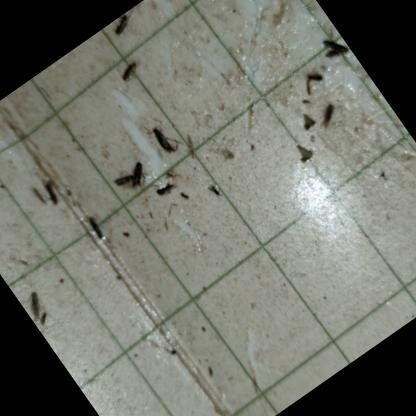prays_oleae: (312, 23, 356, 71), (144, 114, 186, 162), (16, 284, 57, 332), (118, 152, 158, 193), (113, 53, 149, 89), (310, 92, 344, 130), (79, 211, 111, 247), (107, 8, 142, 40), (36, 176, 65, 210), (289, 134, 318, 167), (150, 174, 180, 202), (108, 164, 136, 193), (26, 182, 52, 212), (201, 177, 227, 205), (300, 60, 326, 87), (294, 108, 320, 134)
